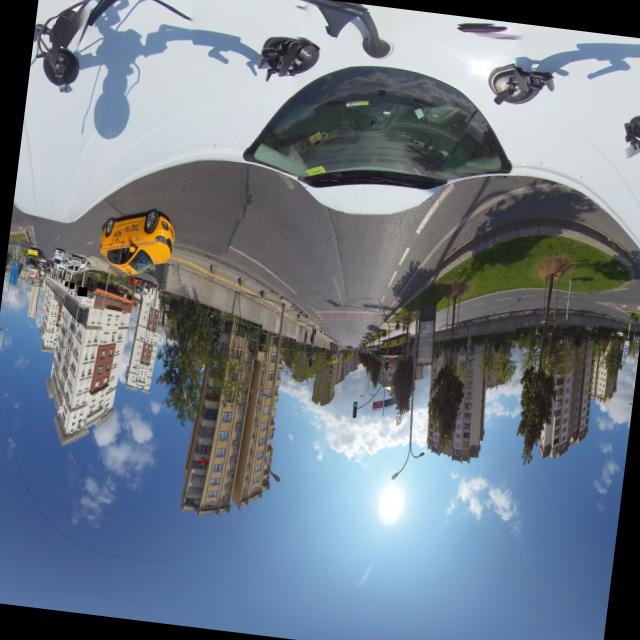SignStore: (76, 285, 86, 295), (68, 281, 73, 287), (63, 280, 67, 284), (60, 278, 61, 281)
